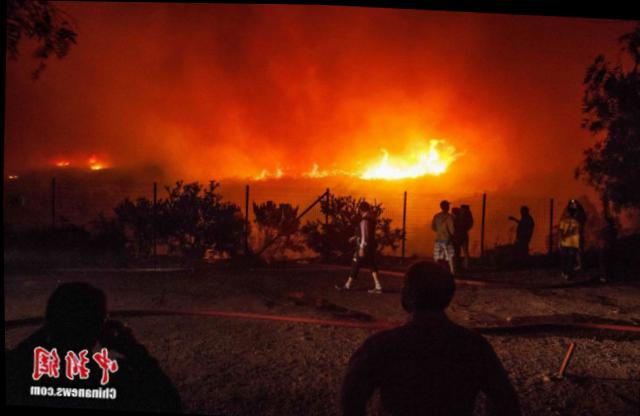fire: (363, 135, 459, 181), (304, 163, 359, 178), (255, 160, 284, 180), (84, 154, 108, 170)
